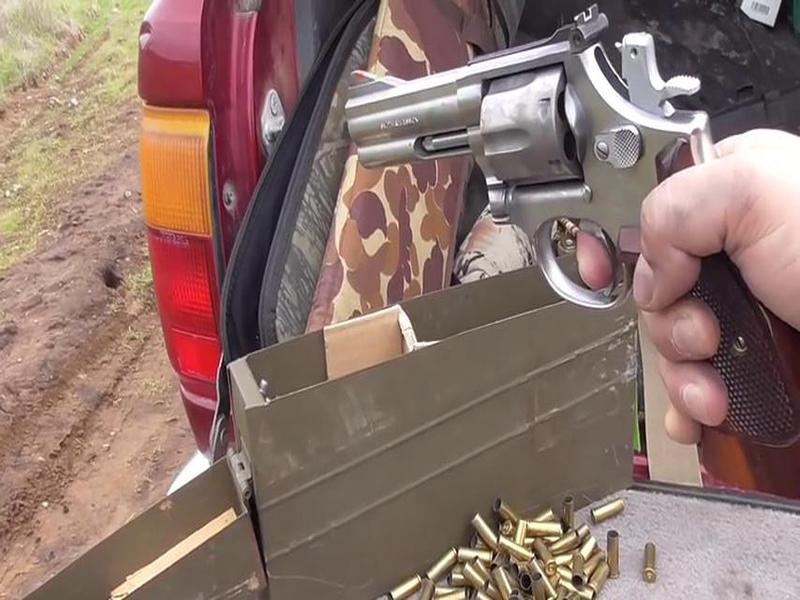Revolver: (341, 13, 750, 409)
